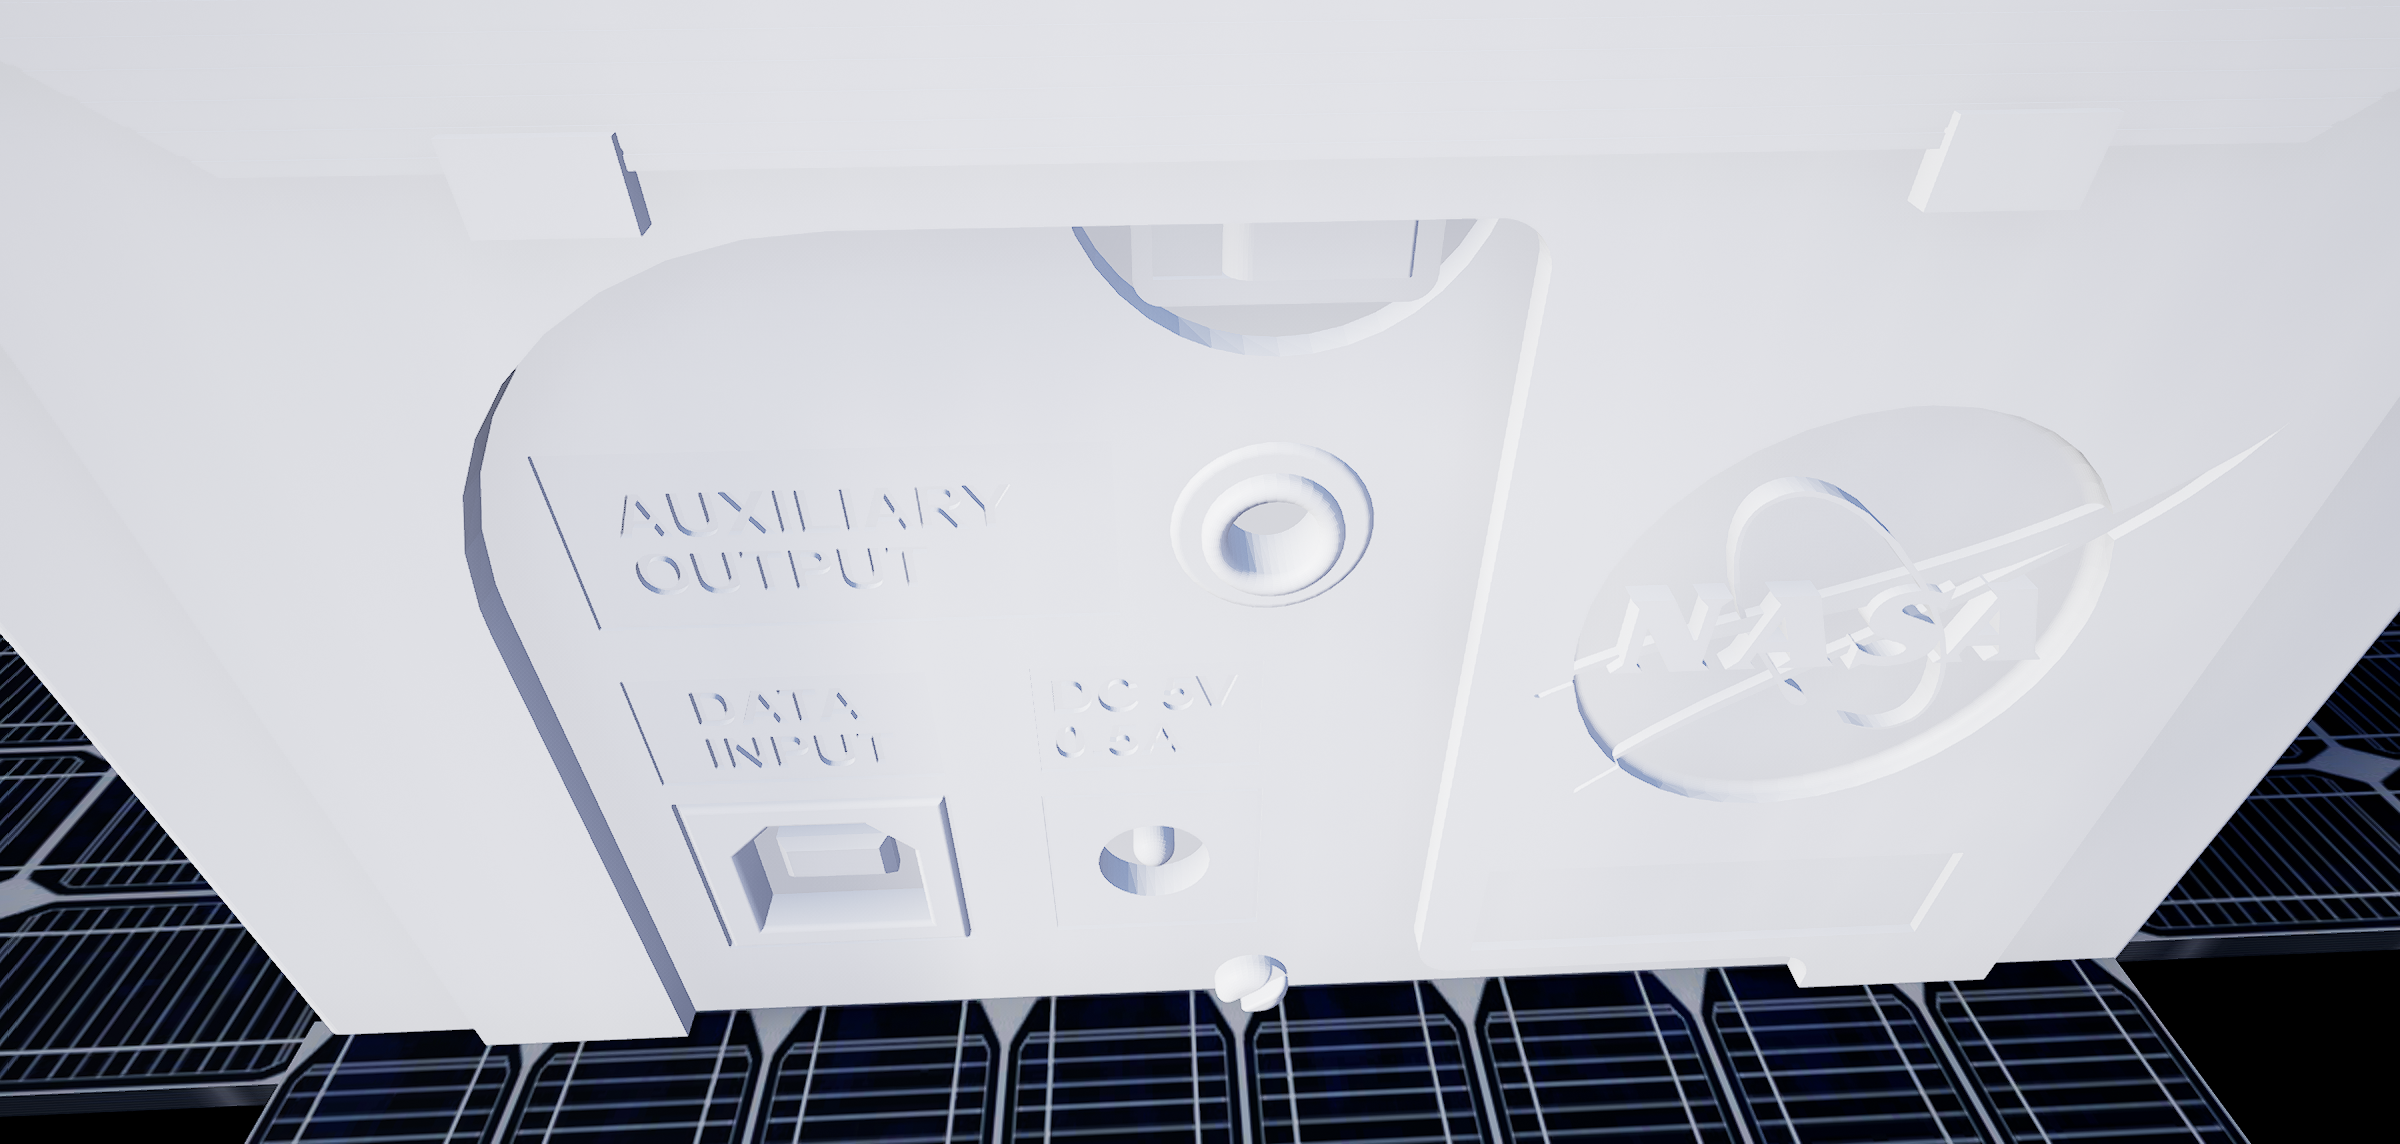aux: (1165, 423, 1387, 616)
dc: (1084, 816, 1224, 900)
usb: (722, 822, 940, 933)
